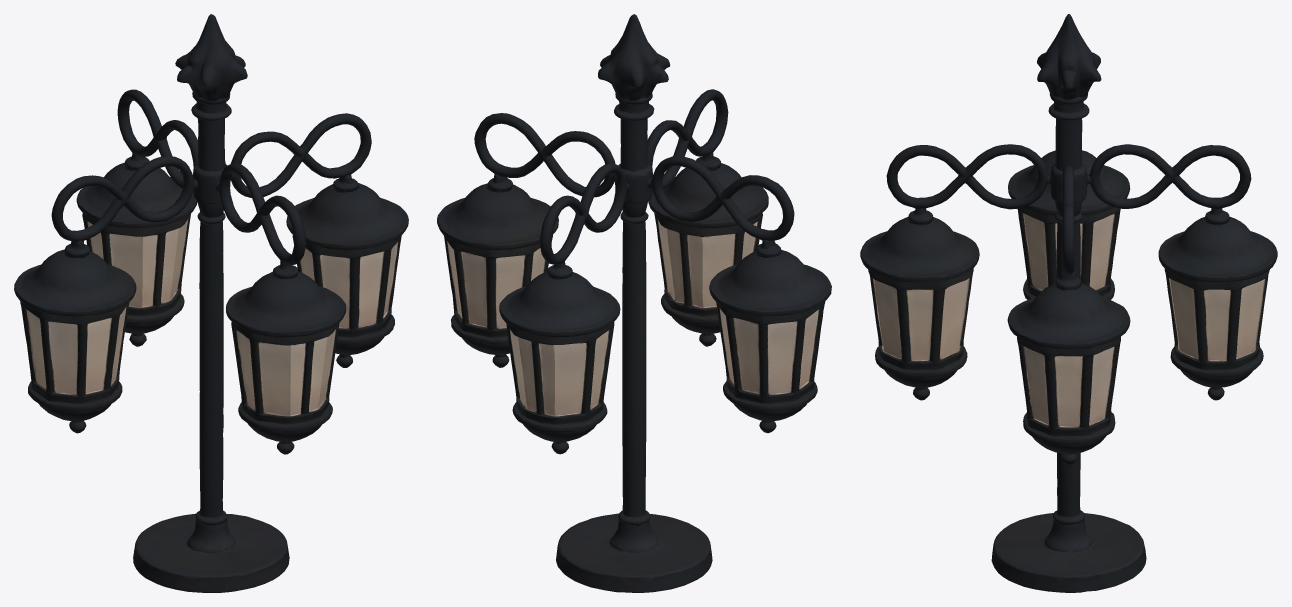
File: lantern_cluster.glb
3 renders of one model, left to right at view 1: azimuth 30°, elevation 25°; view 2: azimuth 150°, elevation 25°; view 3: azimuth 270°, elevation 25°, orthographic.
Parts seen in each view (by area): view 1: Mesh; view 2: Mesh; view 3: Mesh.
Part boxes in pixels (box(x1,y1,x2,y2)): Mesh: box(14, 14, 408, 592); Mesh: box(437, 14, 831, 592); Mesh: box(860, 14, 1277, 592).
Size of the model in its own units: 1.38 by 1.91 by 1.32.
1 material, 1 textured.
